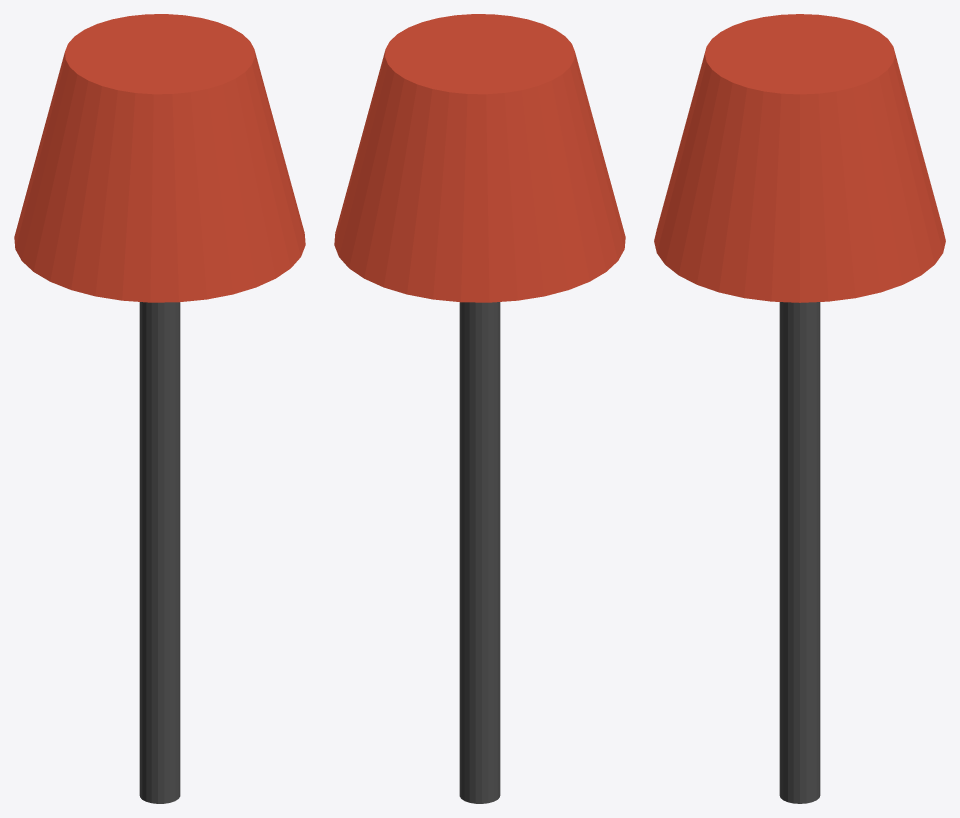
File: lamp.fbx
The picture shows the model from 3 angles, left to right: view 1: azimuth 30°, elevation 25°; view 2: azimuth 150°, elevation 25°; view 3: azimuth 270°, elevation 25°; orthographic projection.
Visible parts, largest first — view 1: cone, Lamp; view 2: cone, Lamp; view 3: cone, Lamp.
Part boxes in pixels (box(x1,y1,x2,y2)): cone: box(14, 14, 305, 302); Lamp: box(139, 302, 180, 803); cone: box(334, 14, 625, 302); Lamp: box(459, 302, 500, 803); cone: box(654, 14, 945, 302); Lamp: box(779, 302, 820, 803).
Size of the model in its own units: 0.4566 by 1.28 by 0.4566.
